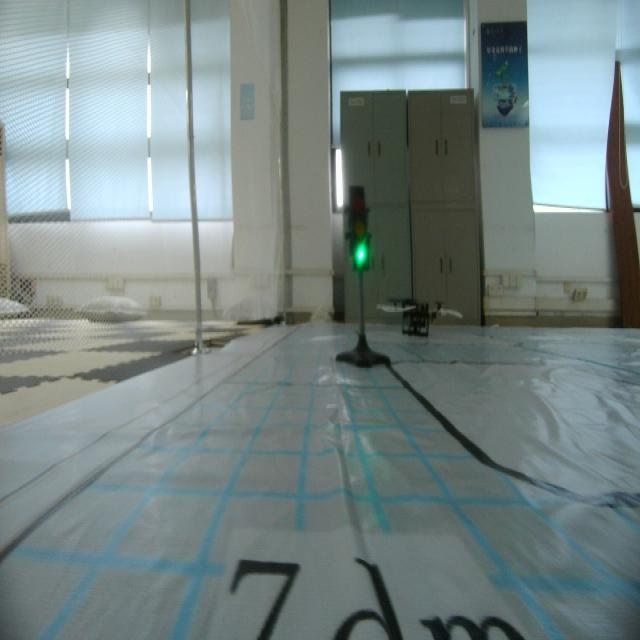green: (344, 186, 376, 276)
